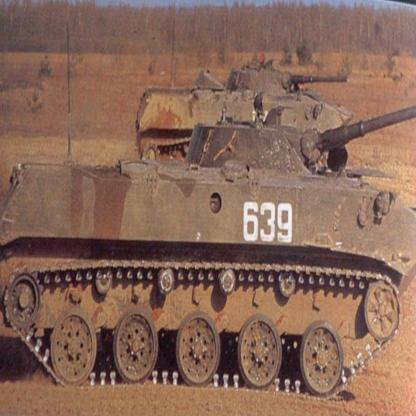Tank: (1, 106, 416, 403)
